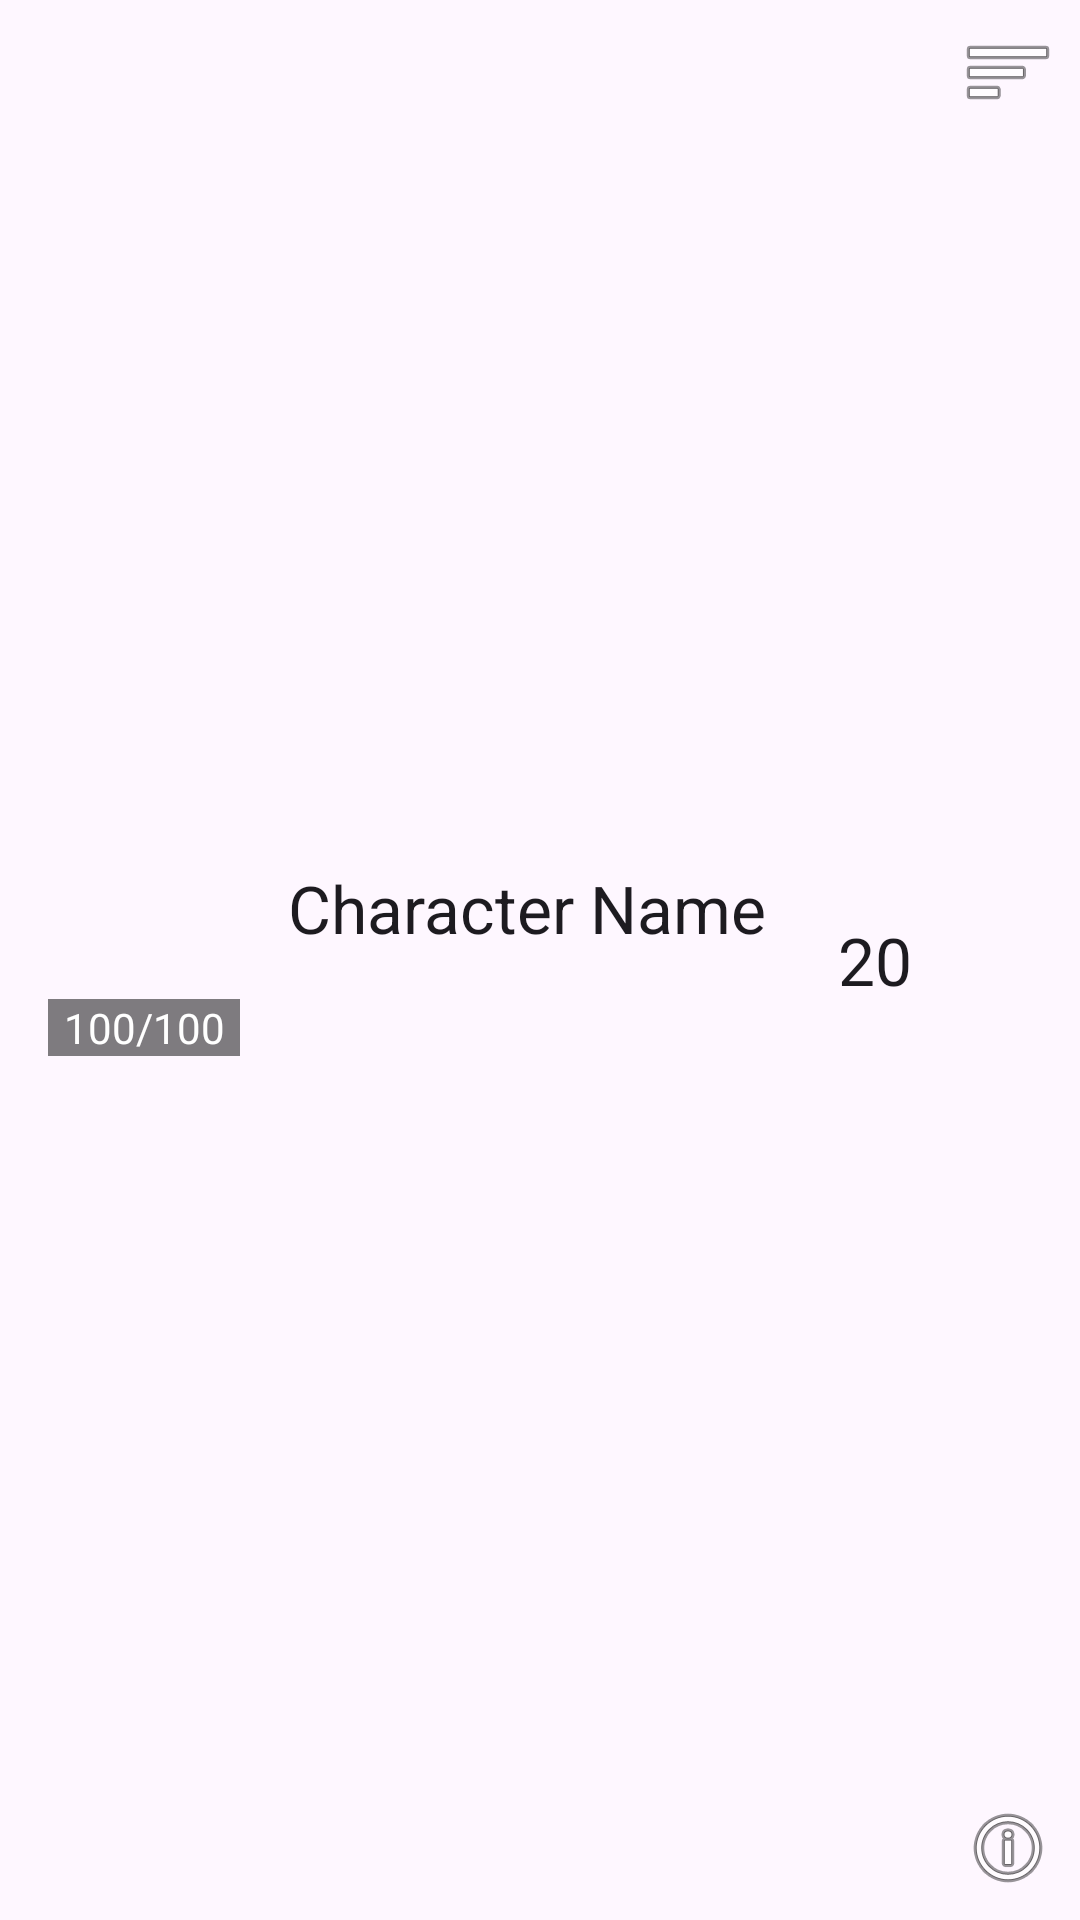

Point at icon controls on the screen. Image size 1080×1920, points as [x,y].
sort by size: [1008,72]
